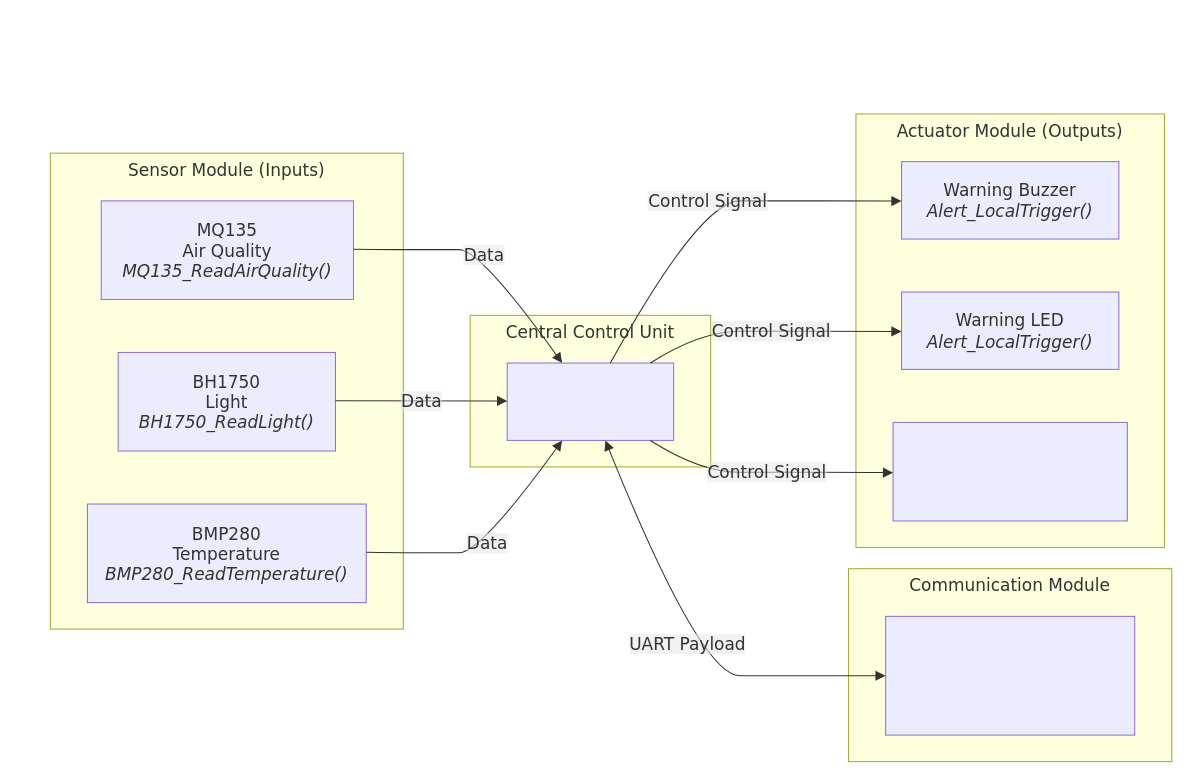
This 1190x780 diagram has some shape labels left out. The shapes that lost their labels are listed below. From the top down, each one's centre as x and y in pixels, then its label:
point (590, 401): STM32F401RE (Main Logic)
point (1009, 471): Relay Fan/Light/Alarm Relay_ControlDevice()
point (1010, 675): ESP8266 WiFi / UART UART_SendToESP() UART_ReceiveFromESP()
